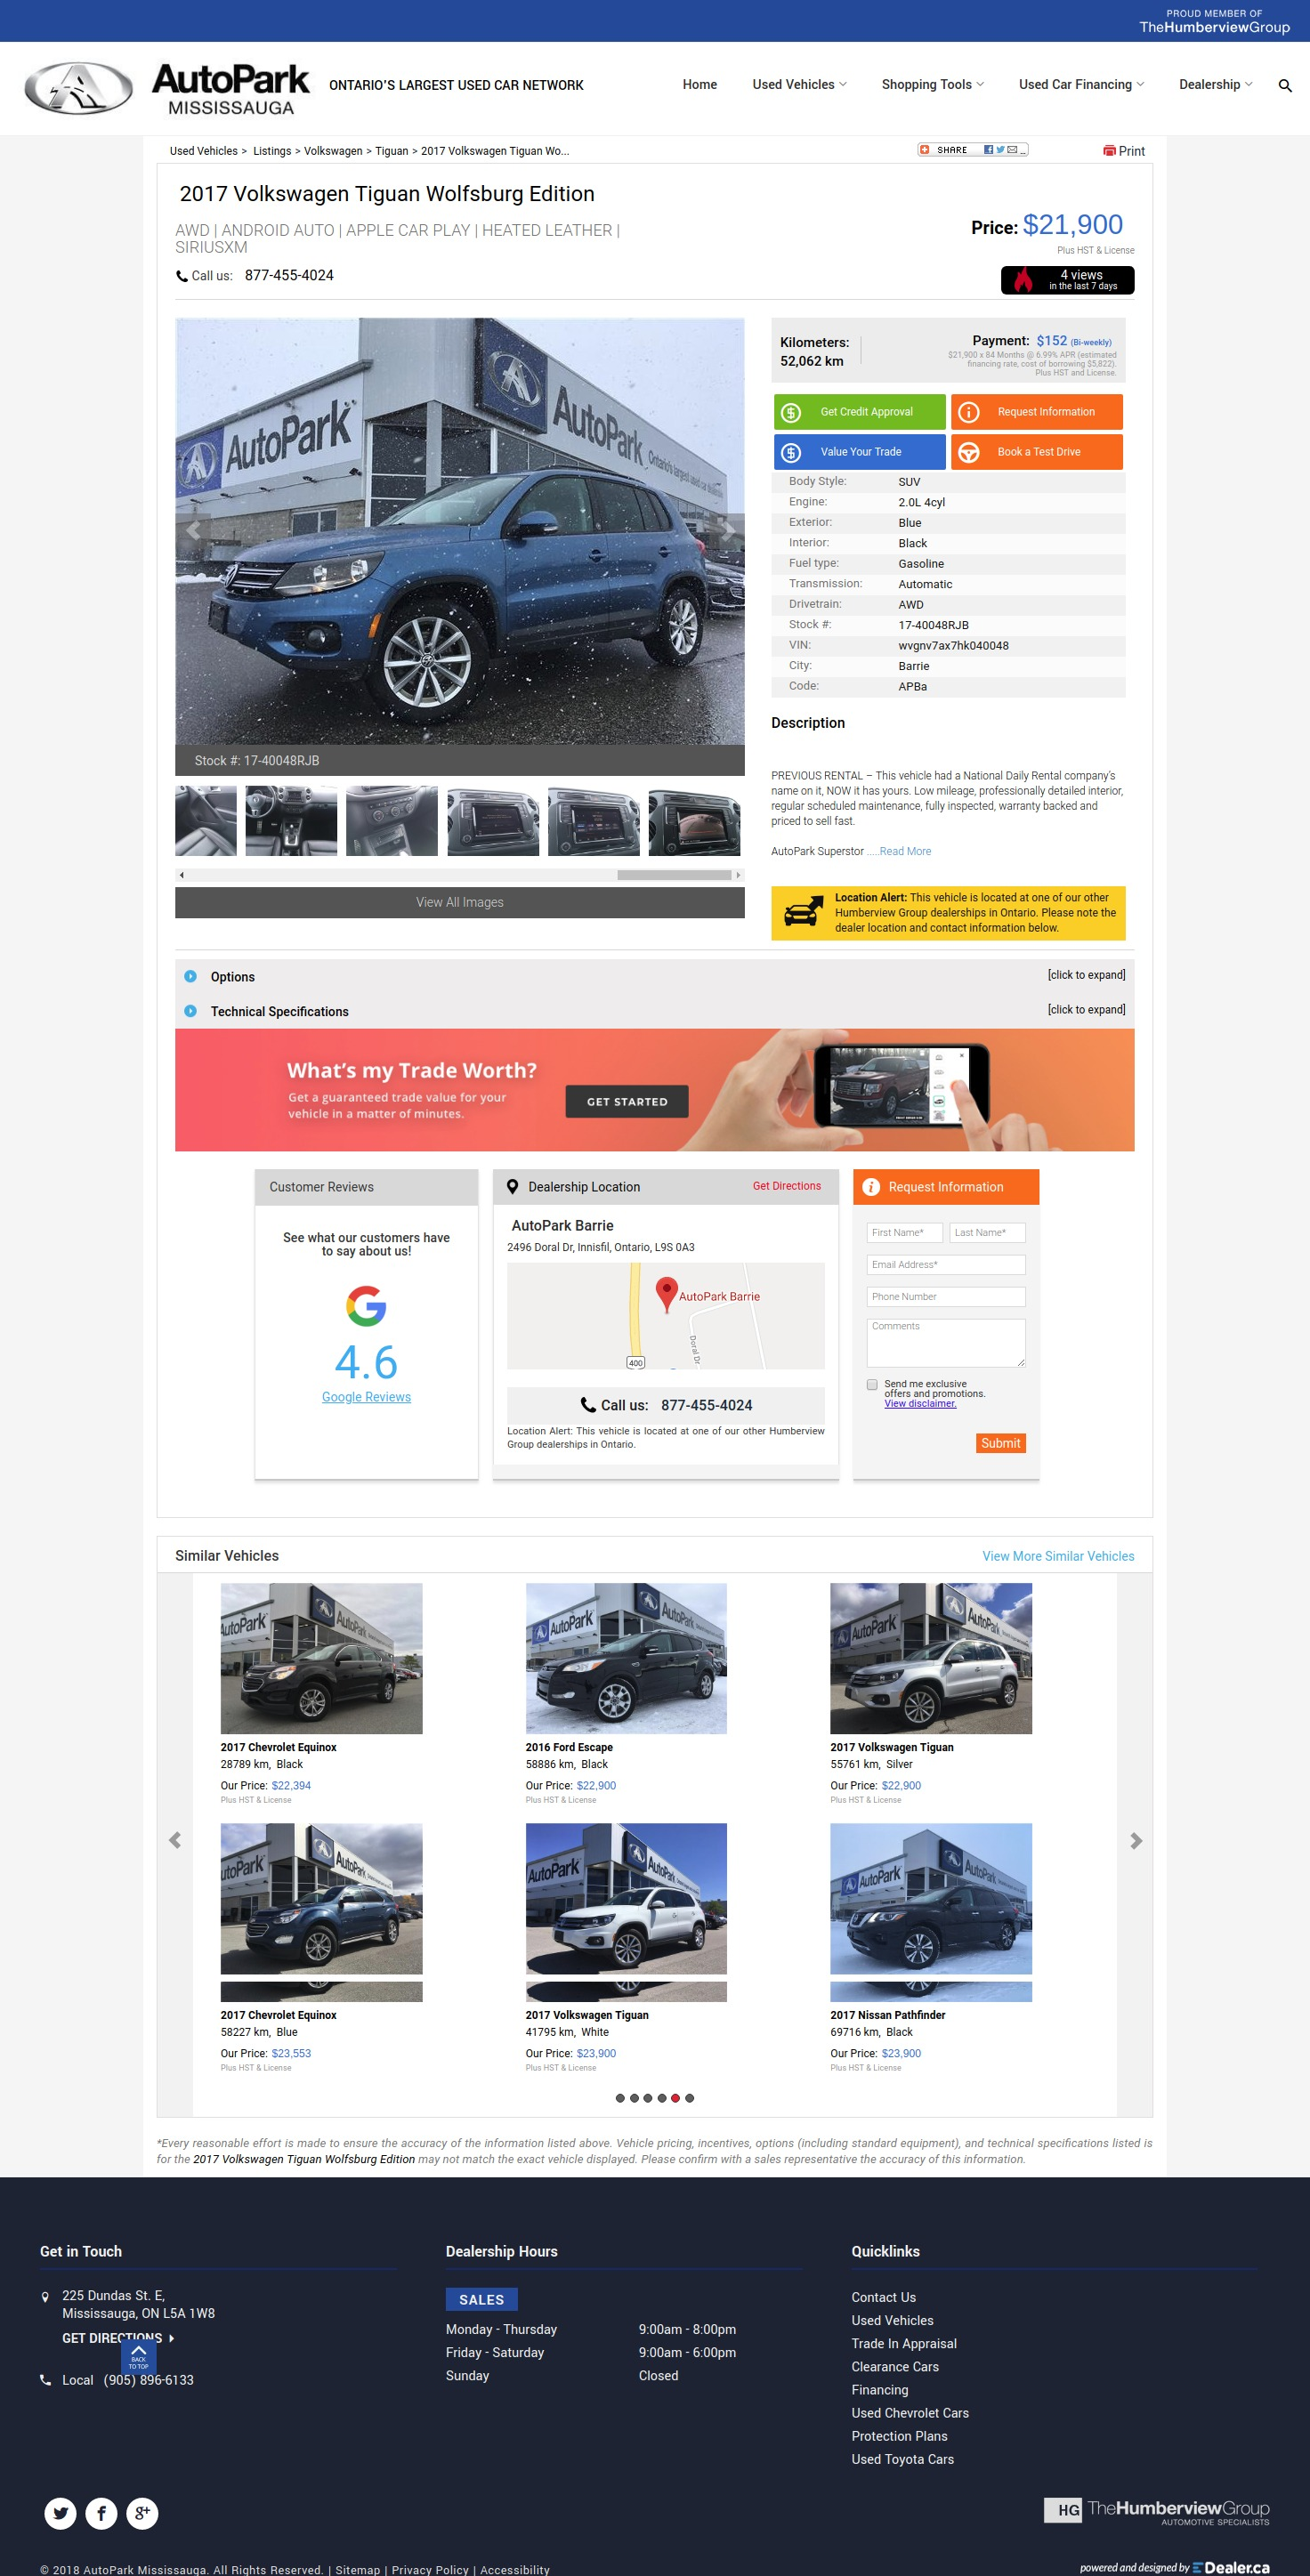car: (707, 513, 747, 553)
